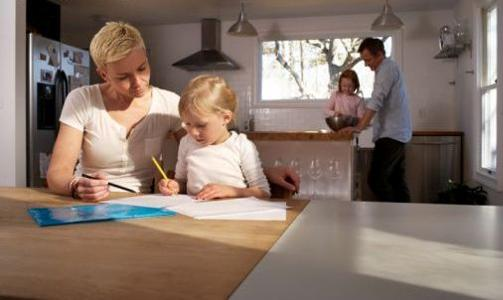person: (157, 75, 274, 201)
